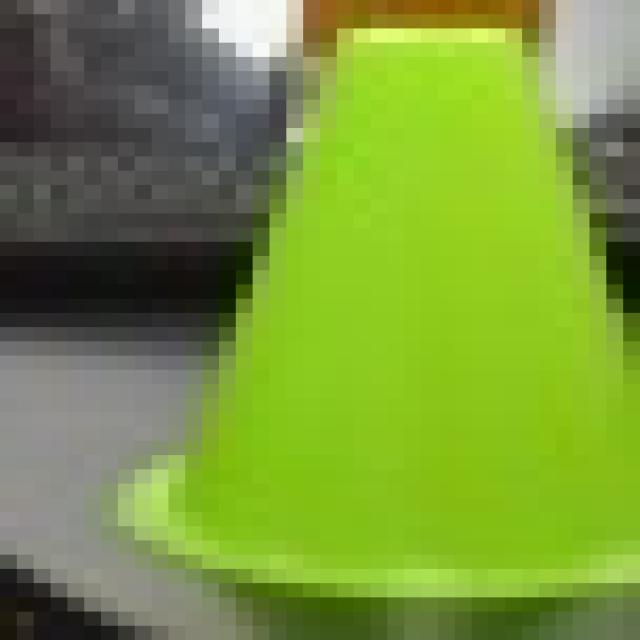cono: (101, 14, 623, 612)
